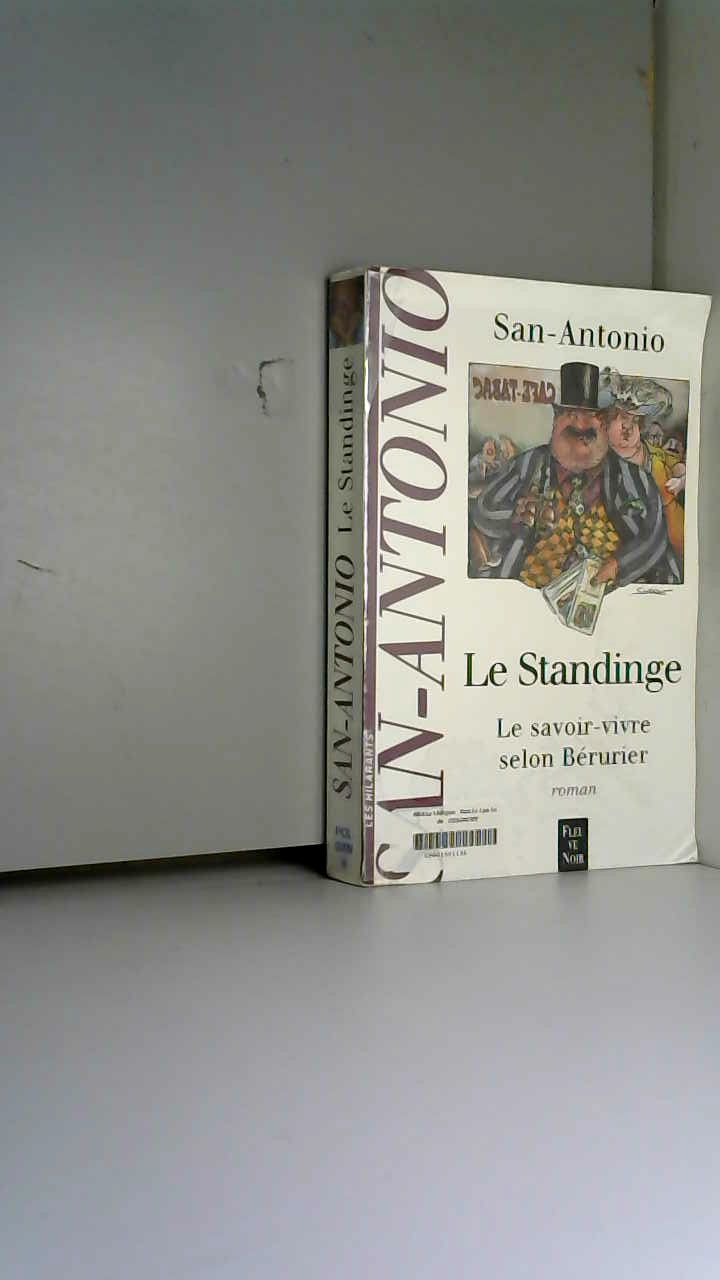book: (290, 240, 717, 914)
